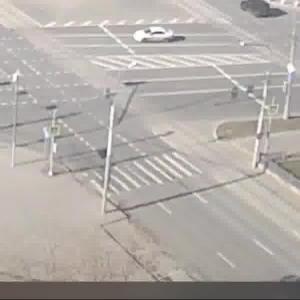car: (140, 27, 179, 48), (244, 1, 276, 25)
